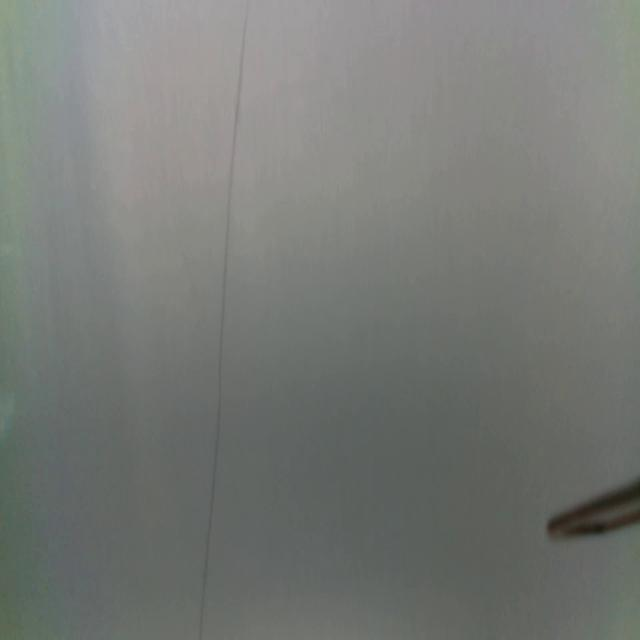crease: (197, 2, 250, 640)
